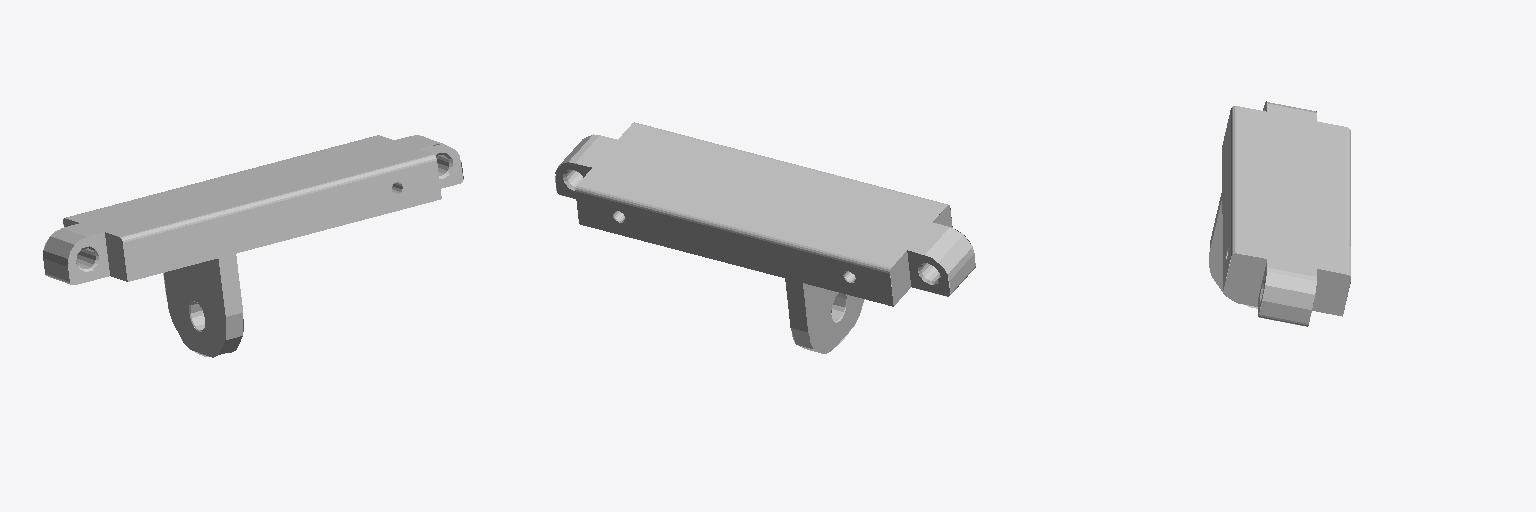
The model's file is handl_finger_ring1_joint.obj.
3 views of the same model, side by side, from view 1: azimuth 30°, elevation 25°; view 2: azimuth 150°, elevation 25°; view 3: azimuth 270°, elevation 25° (orthographic).
Bounding box in the file's own units: 0.0445 × 0.0171 × 0.0139.